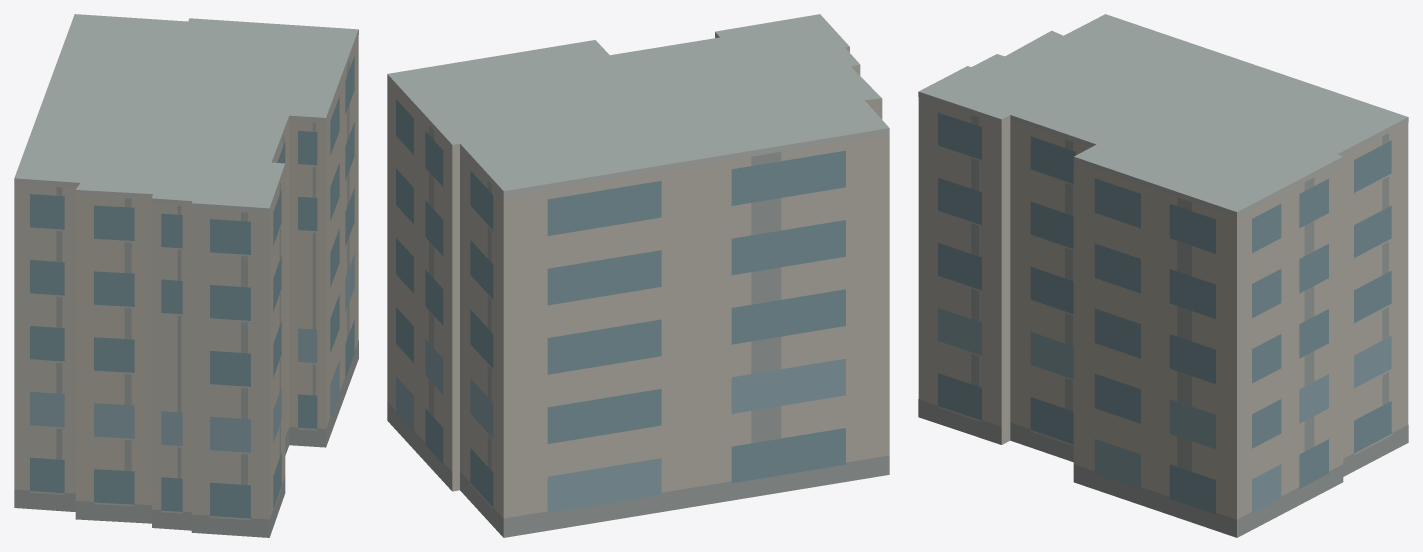
Rendered from survey-upis-32763663.glb.
The picture shows the model from 3 angles, left to right: view 1: azimuth 30°, elevation 25°; view 2: azimuth 150°, elevation 25°; view 3: azimuth 270°, elevation 25°; orthographic projection. The views are drawn at different scales.
Parts seen in each view (by area): view 1: survey-upis-32763663.tmp; view 2: survey-upis-32763663.tmp; view 3: survey-upis-32763663.tmp.
Boxes of the visible parts, x1=… form: survey-upis-32763663.tmp: x1=14, y1=14, x2=358, y2=537; survey-upis-32763663.tmp: x1=387, y1=14, x2=889, y2=537; survey-upis-32763663.tmp: x1=918, y1=14, x2=1408, y2=537.
Size of the model in its own units: 18.61 by 14.25 by 19.43.
